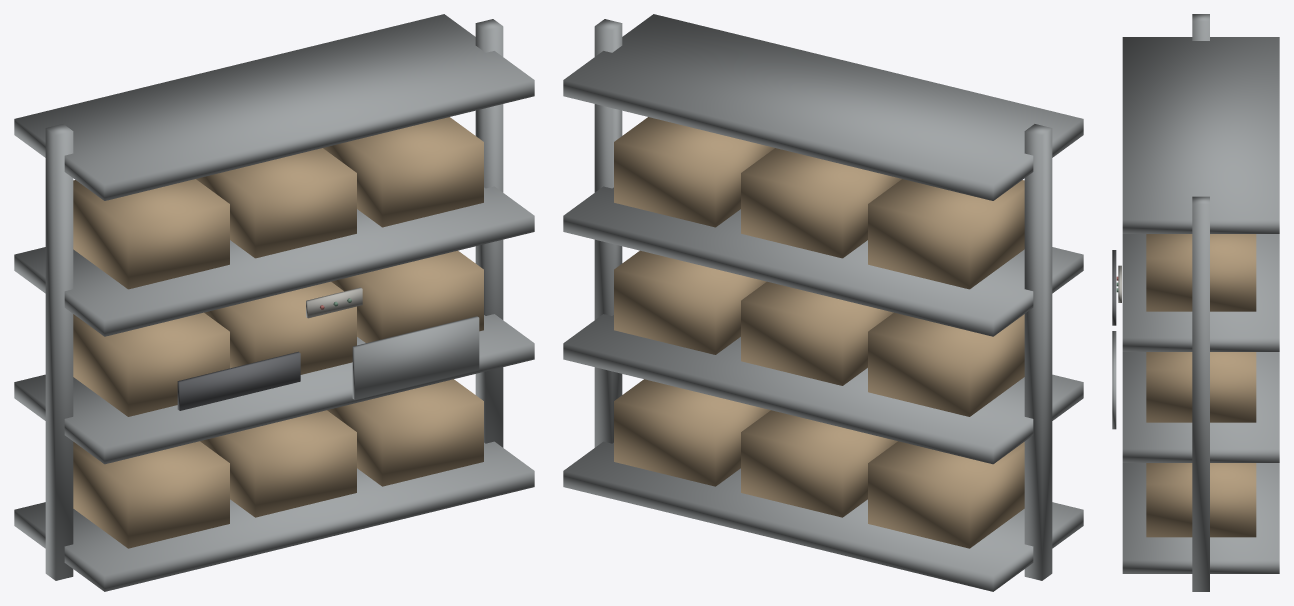
File: print_drying_rack__weathered.glb
3 views of the same model, side by side, from view 1: azimuth 30°, elevation 25°; view 2: azimuth 150°, elevation 25°; view 3: azimuth 270°, elevation 25° (orthographic). The views are drawn at different scales.
Visible parts, largest first — view 1: world; view 2: world; view 3: world.
Part boxes in pixels (bbox=[...]): world: bbox=[14, 14, 534, 591]; world: bbox=[563, 14, 1083, 591]; world: bbox=[1112, 14, 1279, 591].
Size of the model in its own units: 2.29 by 2.18 by 0.853.
